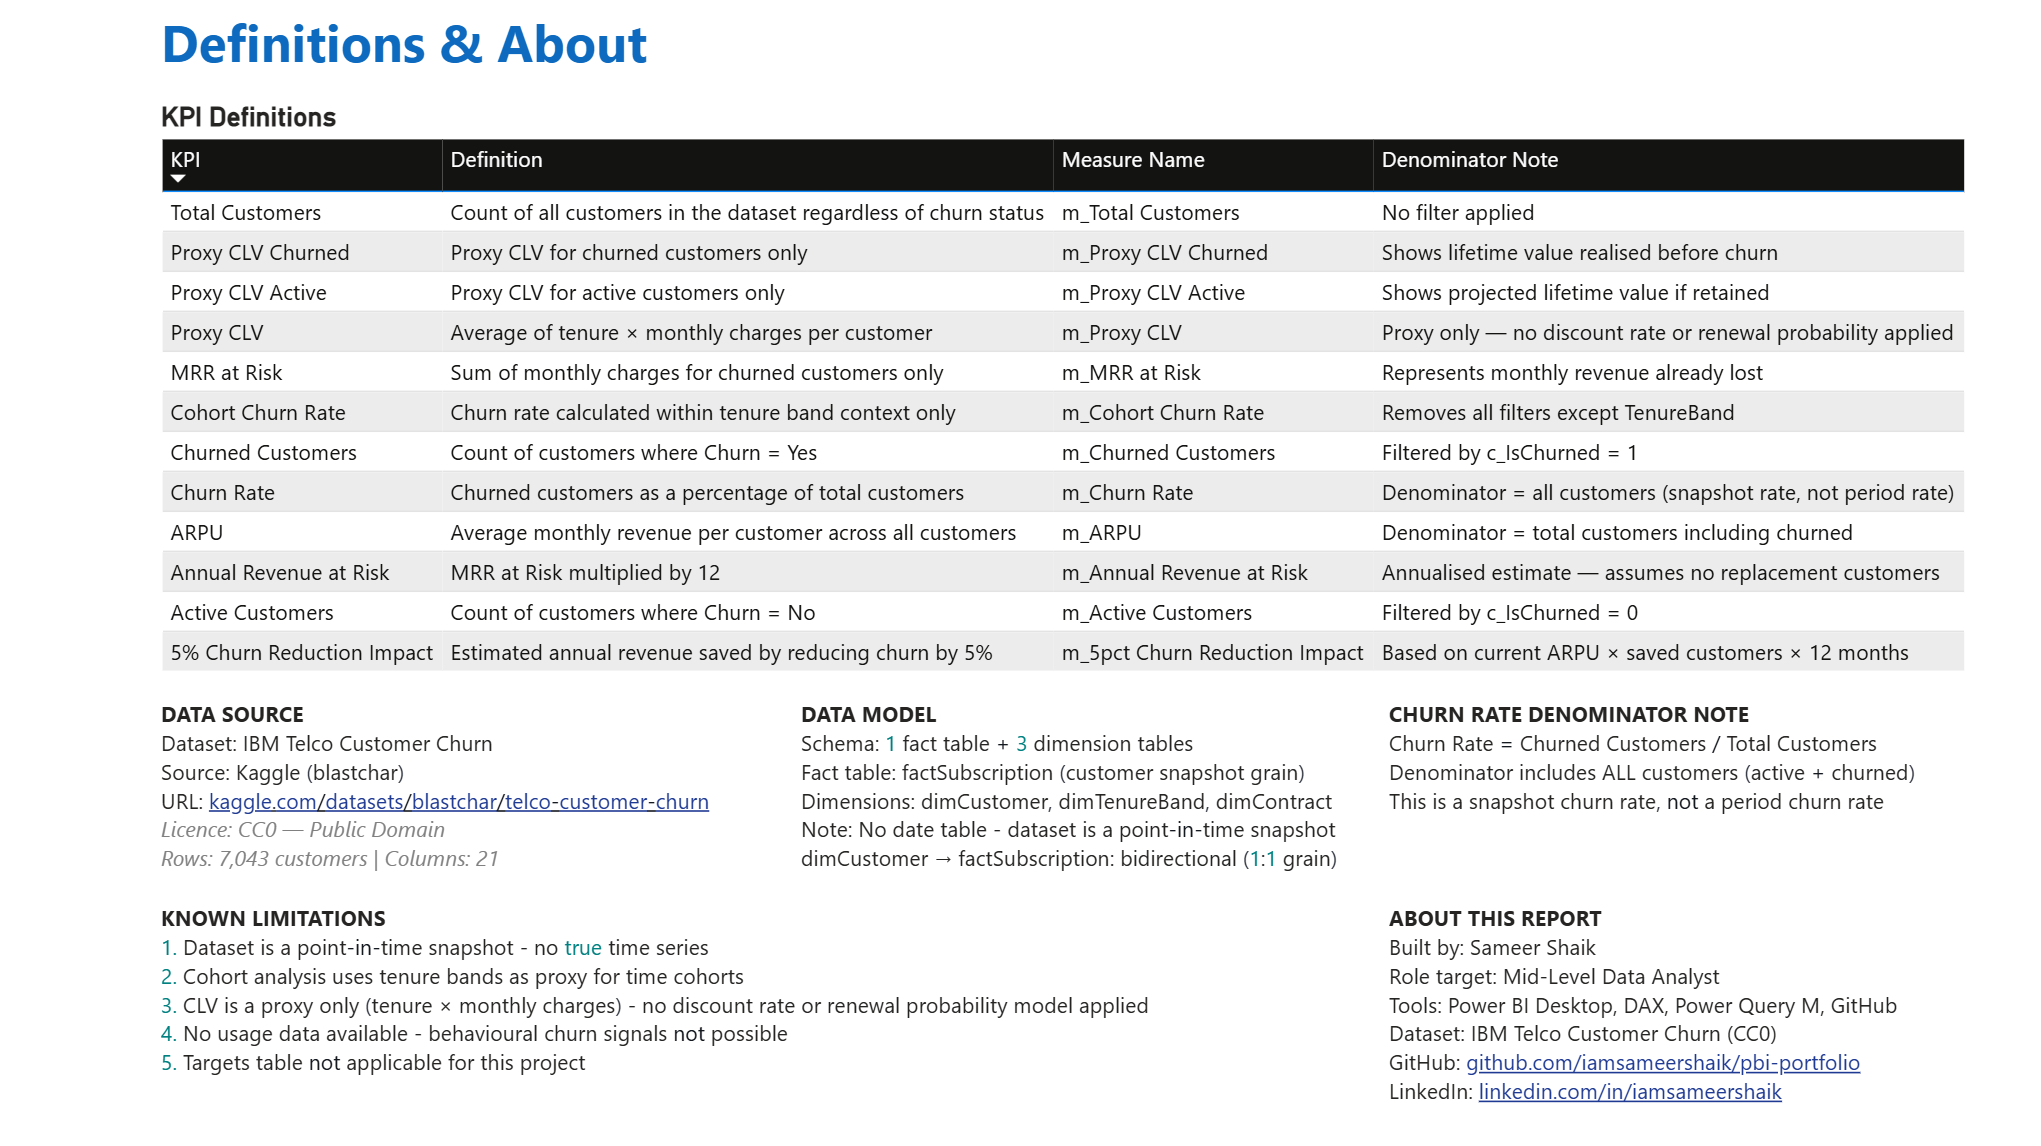

This screenshot's page, from the dashboard's own definition file:
{"tool":"powerbi","page":{"name":"Definitions & About","canvas":[1280,720],"ordinal":4},"visuals":[{"type":"textbox","box":[96,432,400,128],"z":0},{"type":"textbox","box":[496,432,368,128],"z":1000},{"type":"textbox","box":[96,560,768,144],"z":2000},{"type":"textbox","box":[864,560,384,144],"z":3000},{"type":"textbox","box":[864,432,384,128],"z":4000},{"type":"tableEx","title":"KPI Definitions","fields":{"Values":["_P2_Definitions.KPI","_P2_Definitions.Definition","_P2_Definitions.Measure Name","_P2_Definitions.Denominator Note"]},"box":[96,64,1152,368],"z":5000},{"type":"textbox","box":[96,0,1152,64],"z":5001}]}

Visuals, with their boxes in screenshot pixels (x1, y1, x2, y2), scaled from the page's 1280x720 canvas onto the 2041x1146 screenshot:
textbox: box(153, 688, 791, 891)
textbox: box(791, 688, 1378, 891)
textbox: box(153, 891, 1378, 1121)
textbox: box(1378, 891, 1990, 1121)
textbox: box(1378, 688, 1990, 891)
"KPI Definitions" tableEx: box(153, 102, 1990, 688)
textbox: box(153, 0, 1990, 102)
